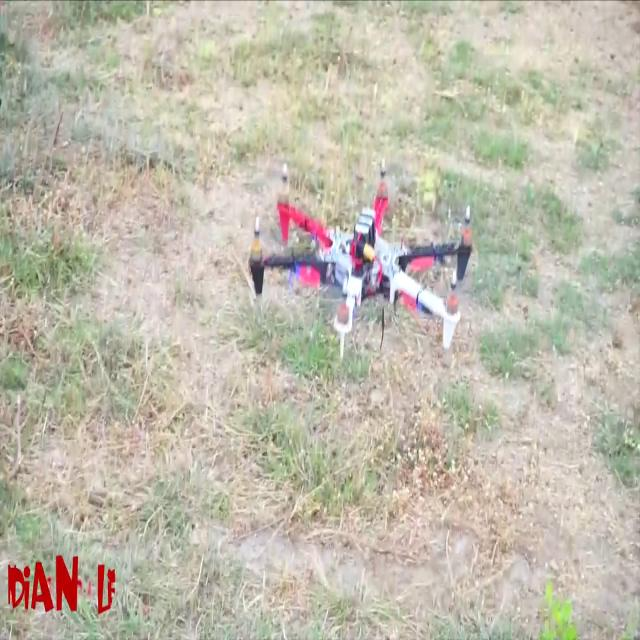drone: (224, 134, 483, 368)
